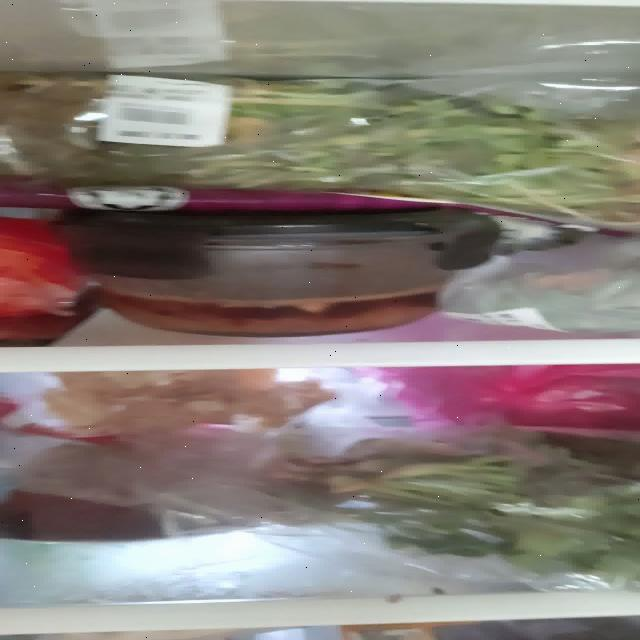leafy_greens: (0, 73, 640, 233), (333, 458, 640, 590)
